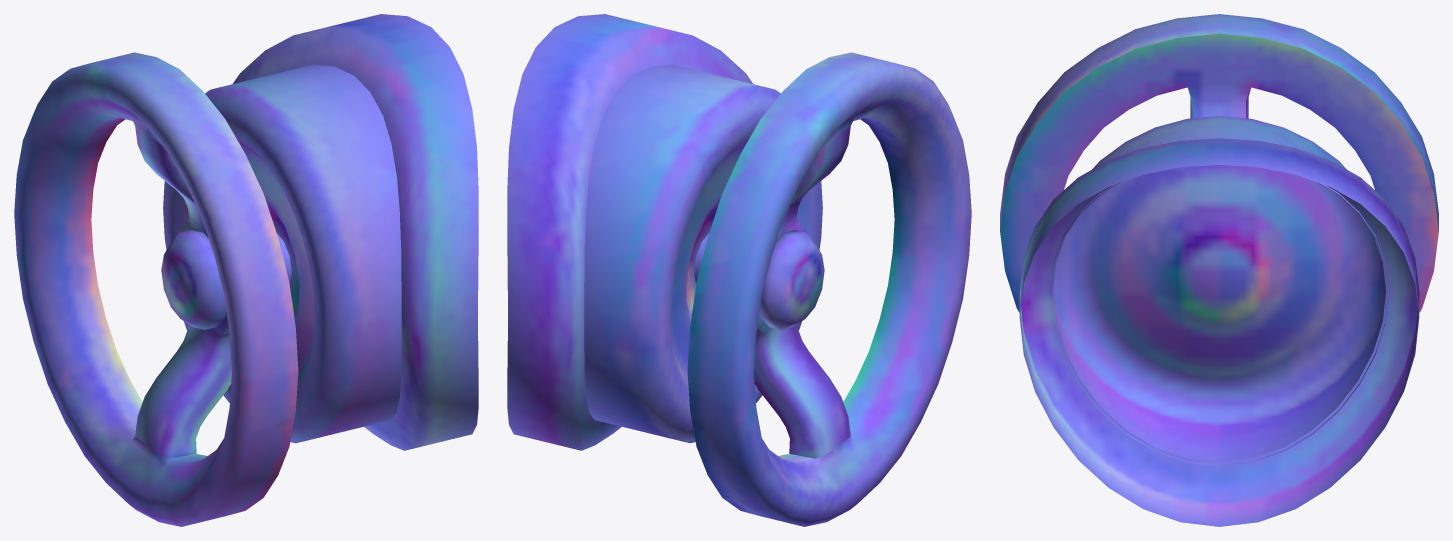
File: Pipe_D160_A_Valve_A.fbx
3 views of the same model, side by side, from view 1: azimuth 30°, elevation 25°; view 2: azimuth 150°, elevation 25°; view 3: azimuth 270°, elevation 25° (orthographic). The views are drawn at different scales.
Parts seen in each view (by area): view 1: Geom_Pipe_D160_A_Valve_A_LOD00; view 2: Geom_Pipe_D160_A_Valve_A_LOD00; view 3: Geom_Pipe_D160_A_Valve_A_LOD00.
Boxes of the visible parts, x1=… form: Geom_Pipe_D160_A_Valve_A_LOD00: x1=14, y1=14, x2=478, y2=526; Geom_Pipe_D160_A_Valve_A_LOD00: x1=507, y1=14, x2=971, y2=526; Geom_Pipe_D160_A_Valve_A_LOD00: x1=1000, y1=14, x2=1438, y2=526.
Size of what is drawn, in the model's own units: 58.95 by 80 by 80.
